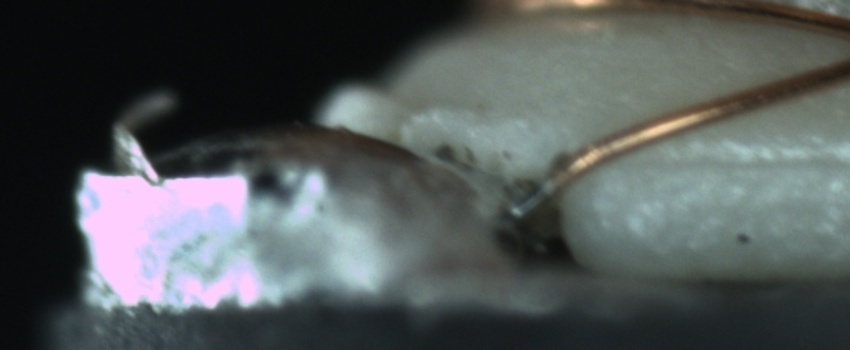DL: (624, 124, 841, 193)
TS: (510, 176, 558, 218)
